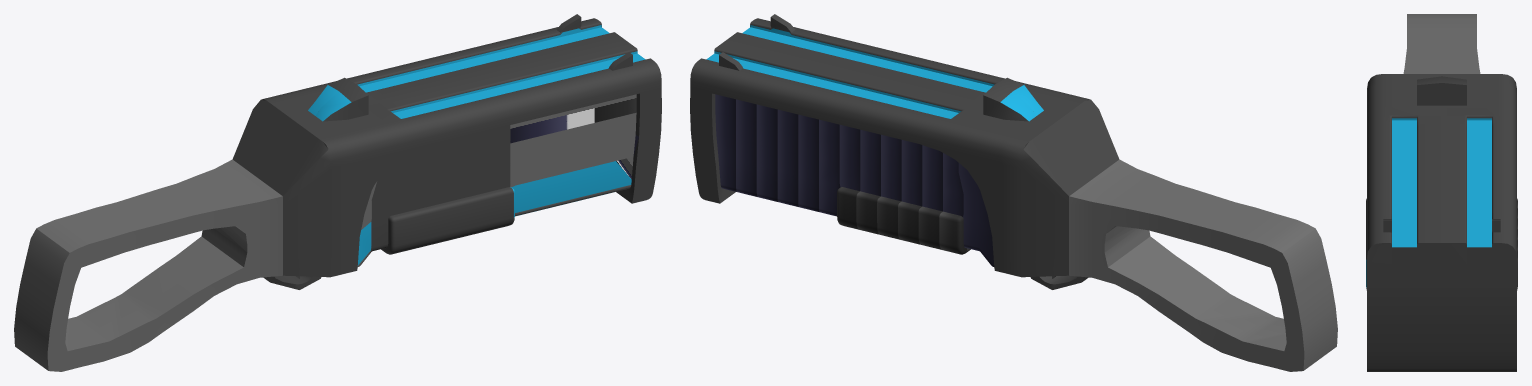
File: Shotgun_Model.FBX
3 views of the same model, side by side, from view 1: azimuth 30°, elevation 25°; view 2: azimuth 150°, elevation 25°; view 3: azimuth 270°, elevation 25° (orthographic). The views are drawn at different scales.
Parts seen in each view (by area): view 1: Box001; view 2: Box001; view 3: Box001.
Part boxes in pixels (x1,y1,x2,y2): Box001: (14,14,661,371); Box001: (690,14,1337,371); Box001: (1366,14,1517,371).
Bounding box in the file's own units: 144 × 30.4 × 46.02.
1 material, 1 textured.
